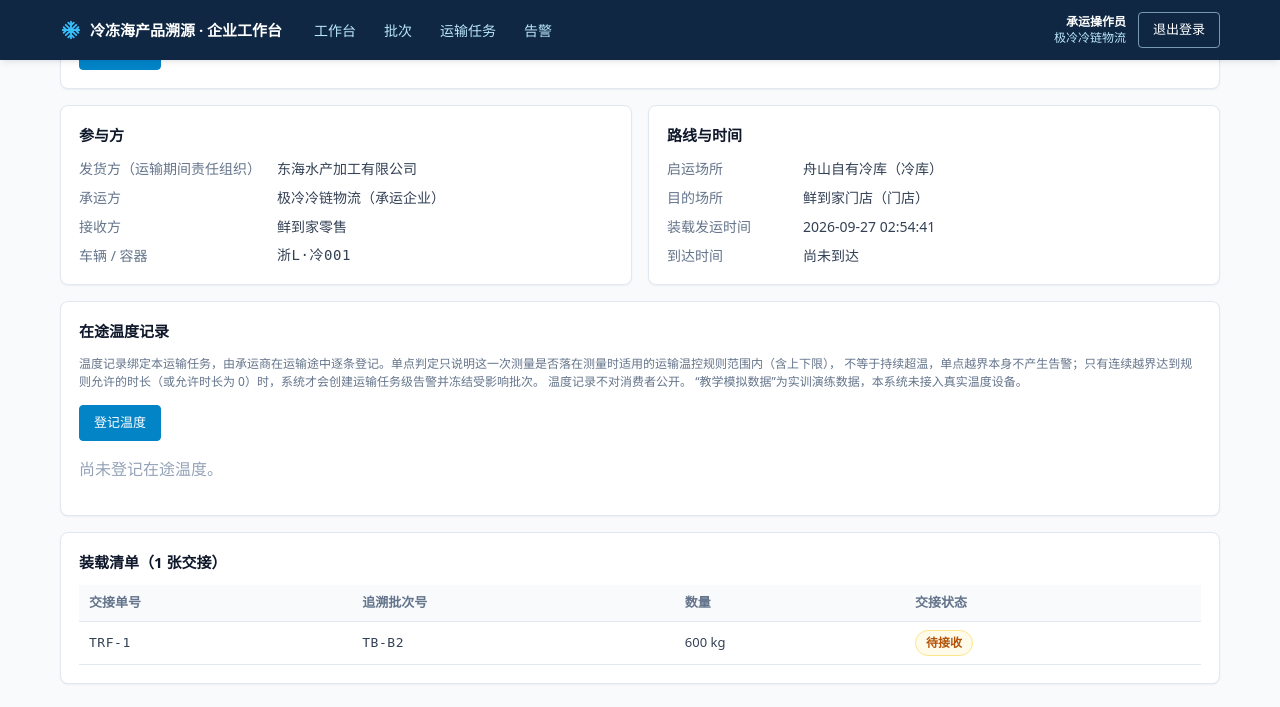
carrier records in-transit temperatures › records single points with CSRF and an Idempotency-Key and shows only single-point evaluations
The image size is (1280, 707).
(page scrolled)
expect the element with test id "temperature-panel" is shown: met, box [60,301,1220,516]
expect the text "尚未登记在途温度。" is shown: met, box [79,458,223,480]
Click the button with test id "temperature-open" at (120, 422), box [79,404,161,440]
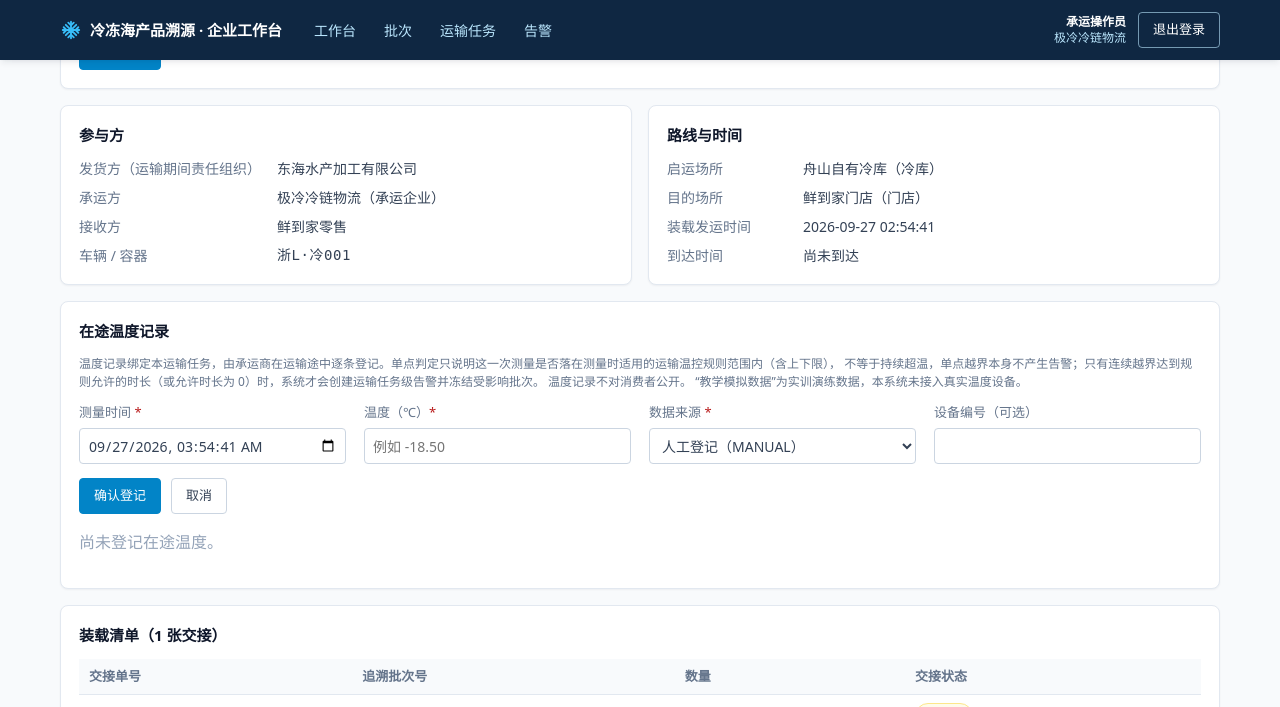
Type "-18.5" into the field with test id "field-temperature-value" at (498, 446), box [364,428,631,464]
Submit the form with test id "temperature-form", box [79,402,1201,514]
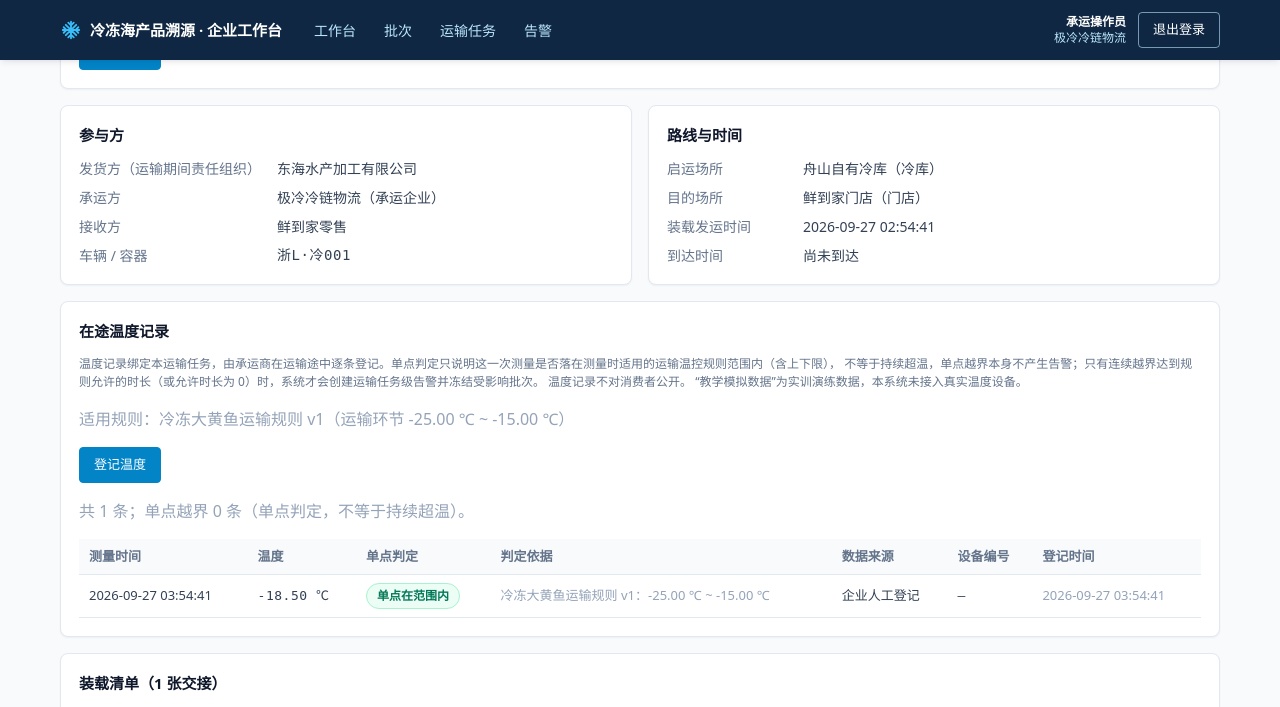
Click the button with test id "temperature-open" at (120, 464), box [79,446,161,482]
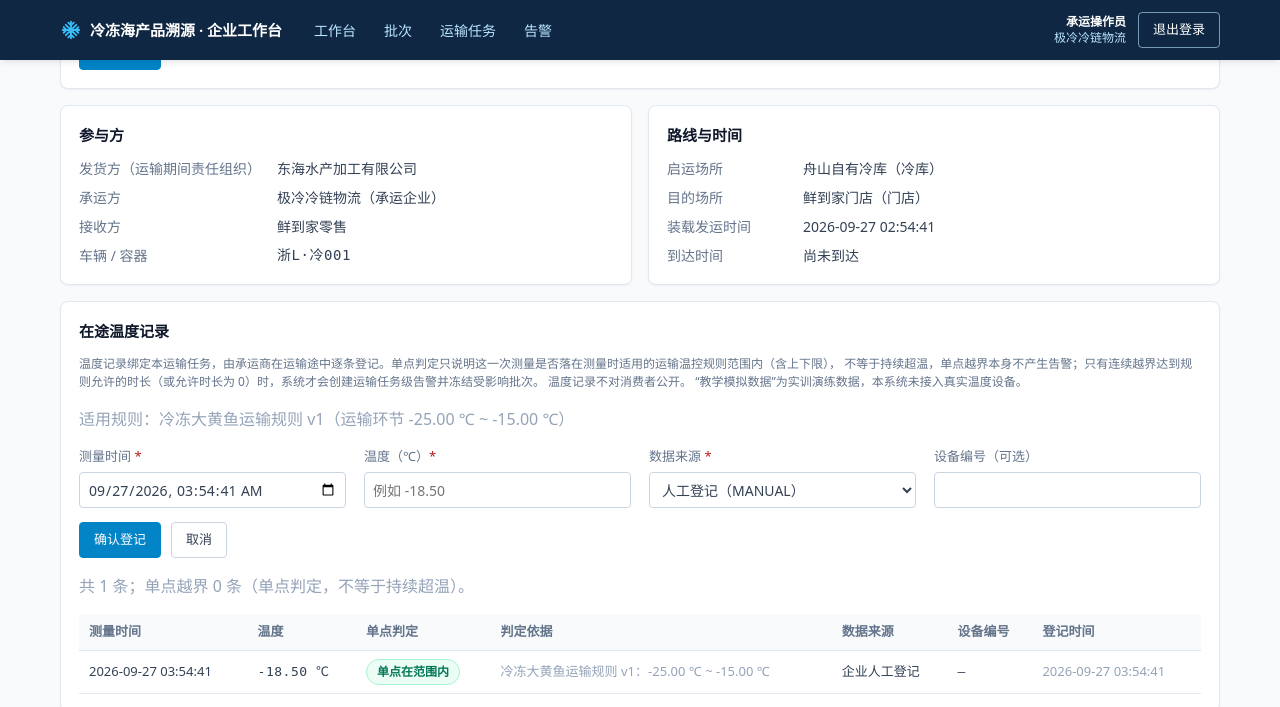
Type "-12.50" into the field with test id "field-temperature-value" at (498, 490), box [364,472,631,508]
Select "教学模拟数据（SIMULATED）" in the dropdown with test id "field-temperature-source" at (782, 490), box [649,472,916,508]
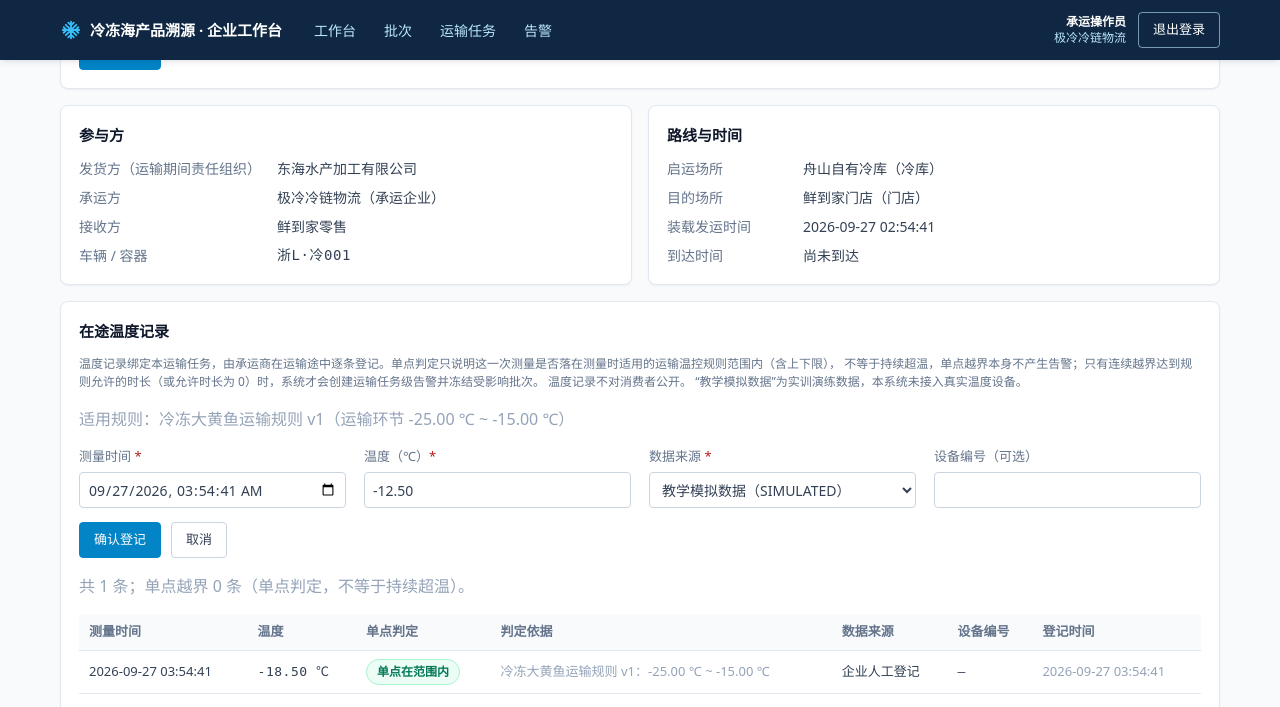
Type "PROBE-01" into the field with test id "field-temperature-device" at (1068, 490), box [934,472,1201,508]
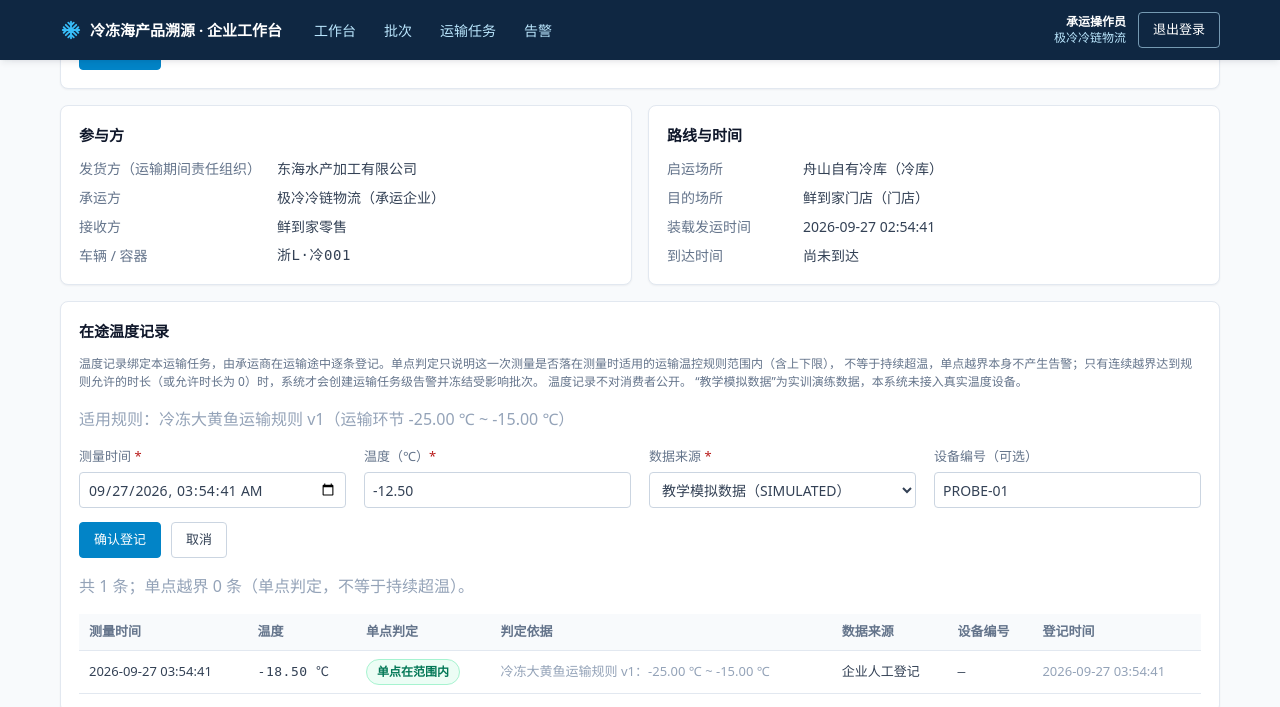
Submit the form with test id "temperature-form", box [79,446,1201,558]
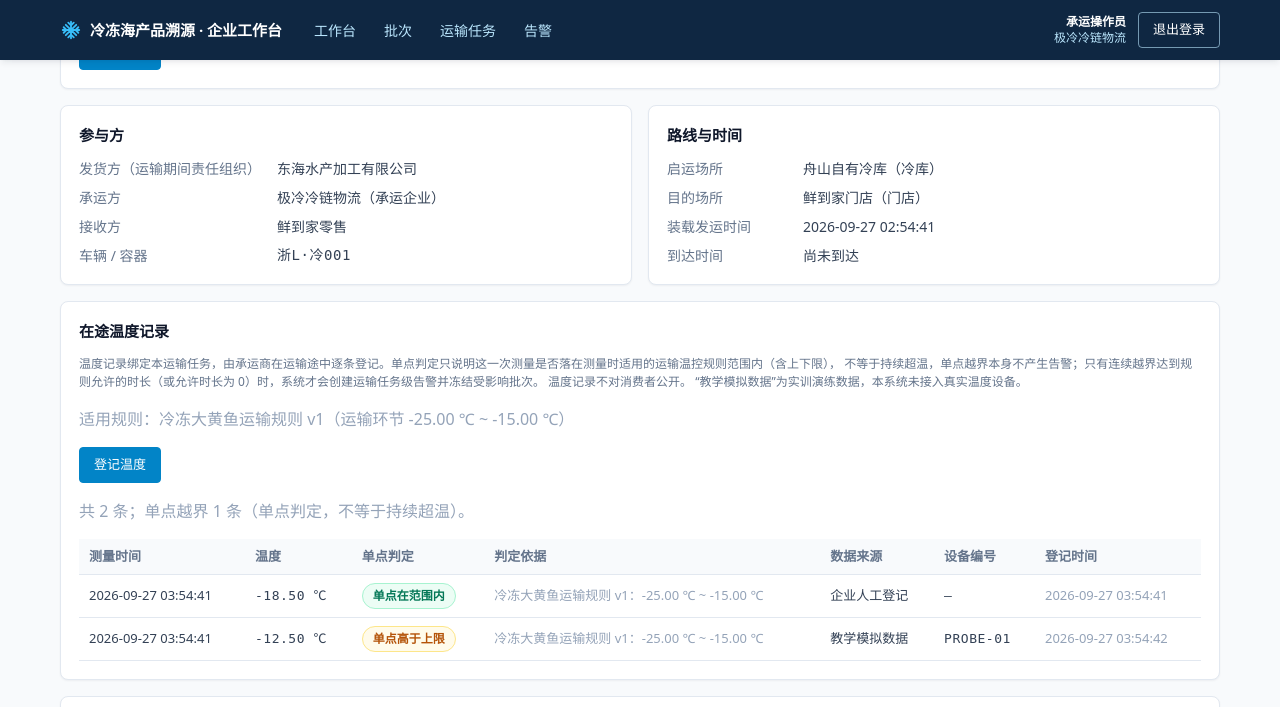
expect the cell with test id "temperature-value" reads "-18.50 ℃": met, box [255,588,327,603]
expect the text with test id "temperature-evaluation" reads "单点在范围内": met, box [373,587,445,604]
expect the text with test id "temperature-evaluation" reads "单点高于上限": met, box [373,630,445,647]
